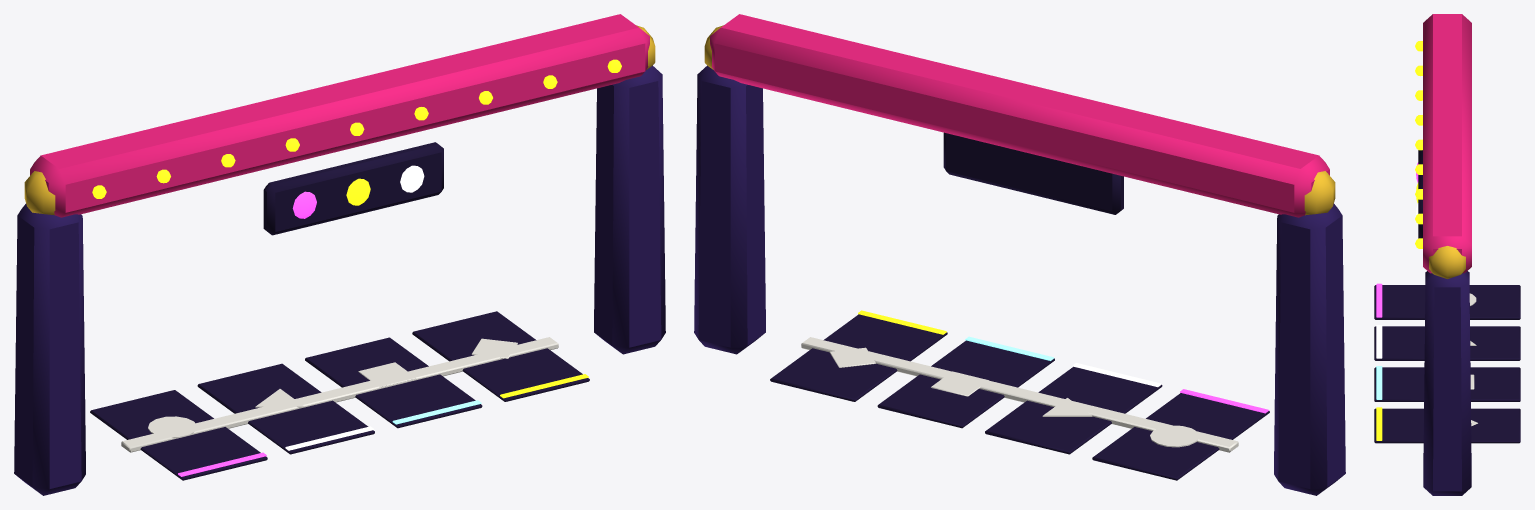
File: Track_Start.fbx
3 renders of one model, left to right at view 1: azimuth 30°, elevation 25°; view 2: azimuth 150°, elevation 25°; view 3: azimuth 270°, elevation 25°, orthographic. The views are drawn at different scales.
Visible parts, largest first — view 1: Static; view 2: Static; view 3: Static.
Boxes of the visible parts, bbox=[...] form: Static: bbox=[14, 14, 665, 495]; Static: bbox=[694, 14, 1345, 495]; Static: bbox=[1374, 14, 1520, 495].
Bounding box in the file's own units: 11.8 × 5.75 × 3.
